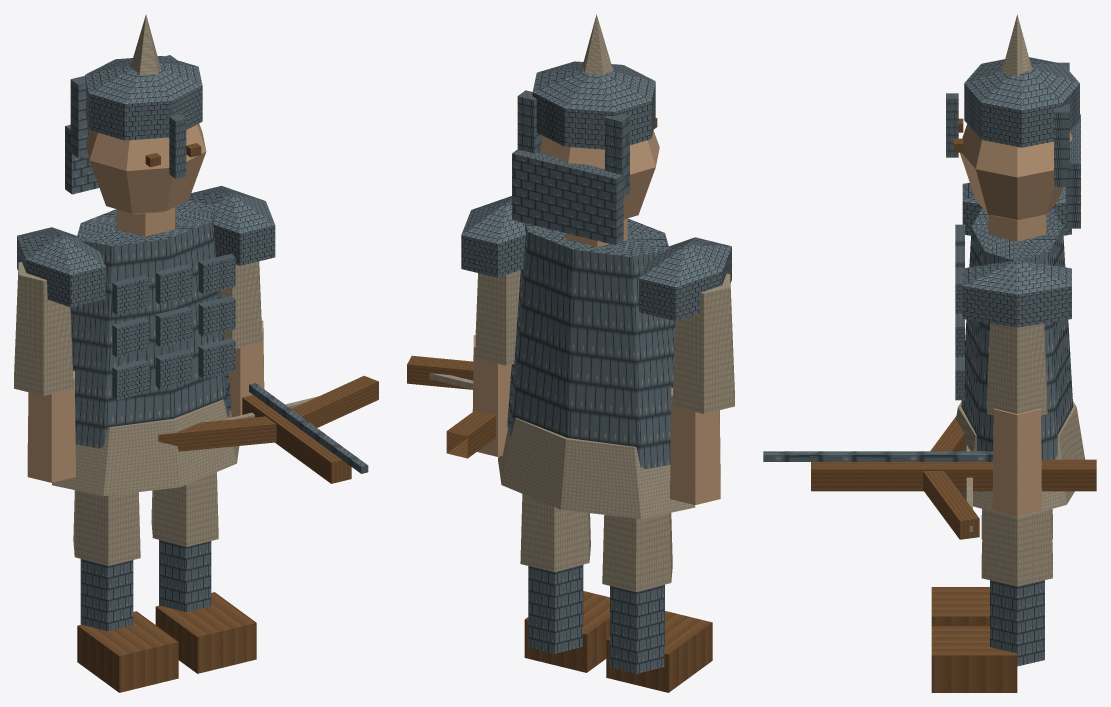
The model's file is unit-CROSSBOW-lod0.glb.
3 views of the same model, side by side, from view 1: azimuth 30°, elevation 25°; view 2: azimuth 150°, elevation 25°; view 3: azimuth 270°, elevation 25° (orthographic). The views are drawn at different scales.
Size of the model in its own units: 0.2499 by 0.448 by 0.21.
1 material, 1 textured.
